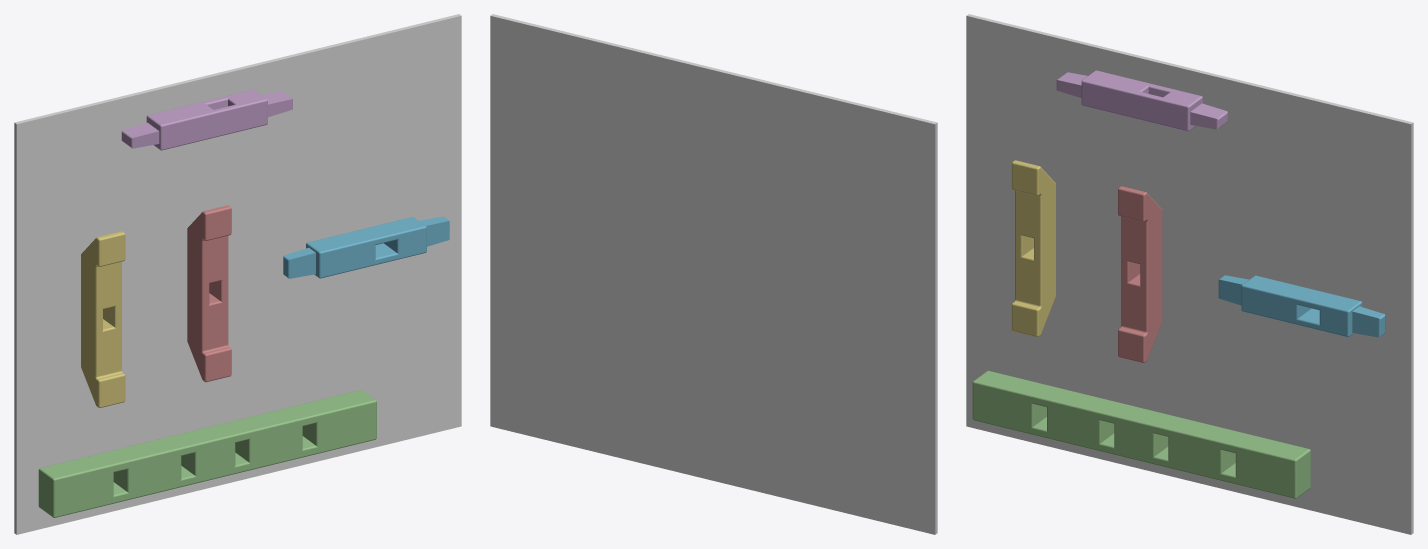
The model's file is pickup_layout.glb.
3 views of the same model, side by side, from view 1: azimuth 30°, elevation 25°; view 2: azimuth 150°, elevation 25°; view 3: azimuth 330°, elevation 25° (orthographic).
Parts seen in each view (by area): view 1: world, 6.obj, 0.obj, 1.obj, 2.obj, 3.obj; view 2: world; view 3: world, 6.obj, 0.obj, 1.obj, 2.obj, 3.obj.
Part boxes in pixels (x1=…): world: x1=14, y1=14, x2=461, y2=534; 6.obj: x1=38, y1=390, x2=376, y2=517; 0.obj: x1=187, y1=205, x2=231, y2=382; 1.obj: x1=81, y1=231, x2=125, y2=408; 2.obj: x1=283, y1=216, x2=449, y2=278; 3.obj: x1=121, y1=89, x2=292, y2=150; world: x1=490, y1=14, x2=937, y2=534; world: x1=966, y1=14, x2=1413, y2=534; 6.obj: x1=972, y1=370, x2=1310, y2=498; 0.obj: x1=1118, y1=186, x2=1162, y2=362; 1.obj: x1=1011, y1=160, x2=1055, y2=337; 2.obj: x1=1218, y1=275, x2=1385, y2=337; 3.obj: x1=1056, y1=70, x2=1227, y2=131.
Bounding box in the file's own units: 20.93 × 18.46 × 1.72.
